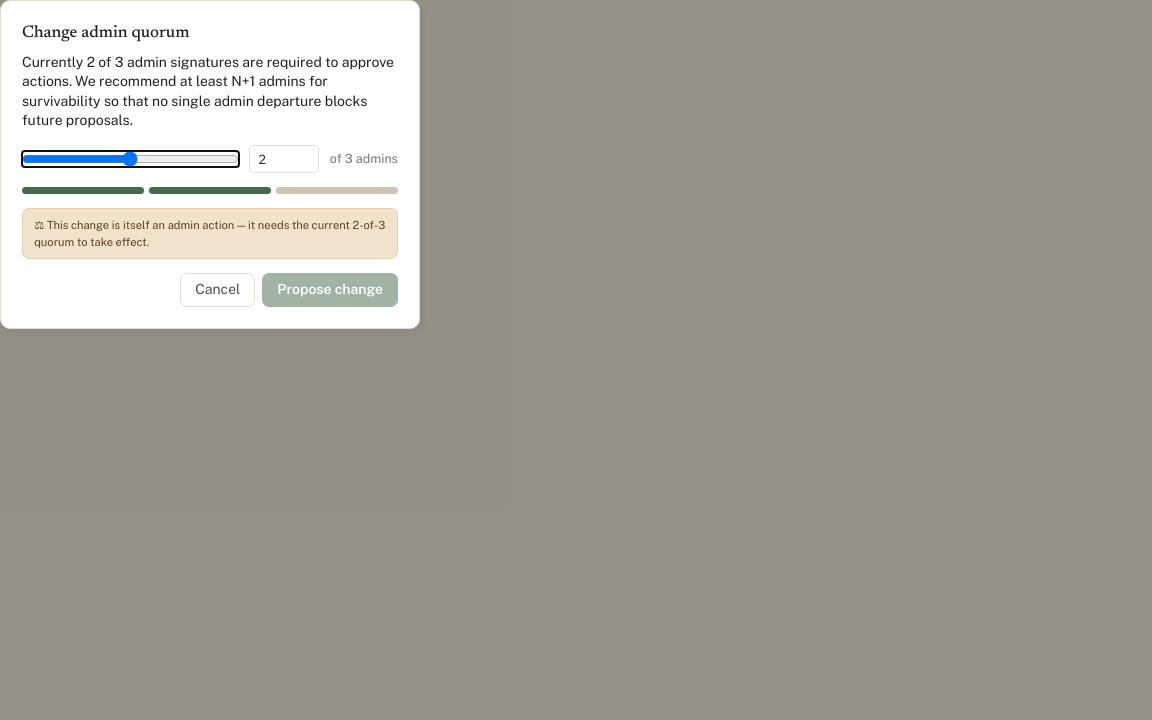
Scenario: ChangeQuorumDialog › propose_button_disabled_when_quorum_outside_valid_range
The width and height of the screenshot is (1152, 720).
Expected: the button "Propose change" is disabled, [262,273,398,307]
Replace the text in the number field named "Quorum number" with "0" at [284, 159], box [249,145,319,173]
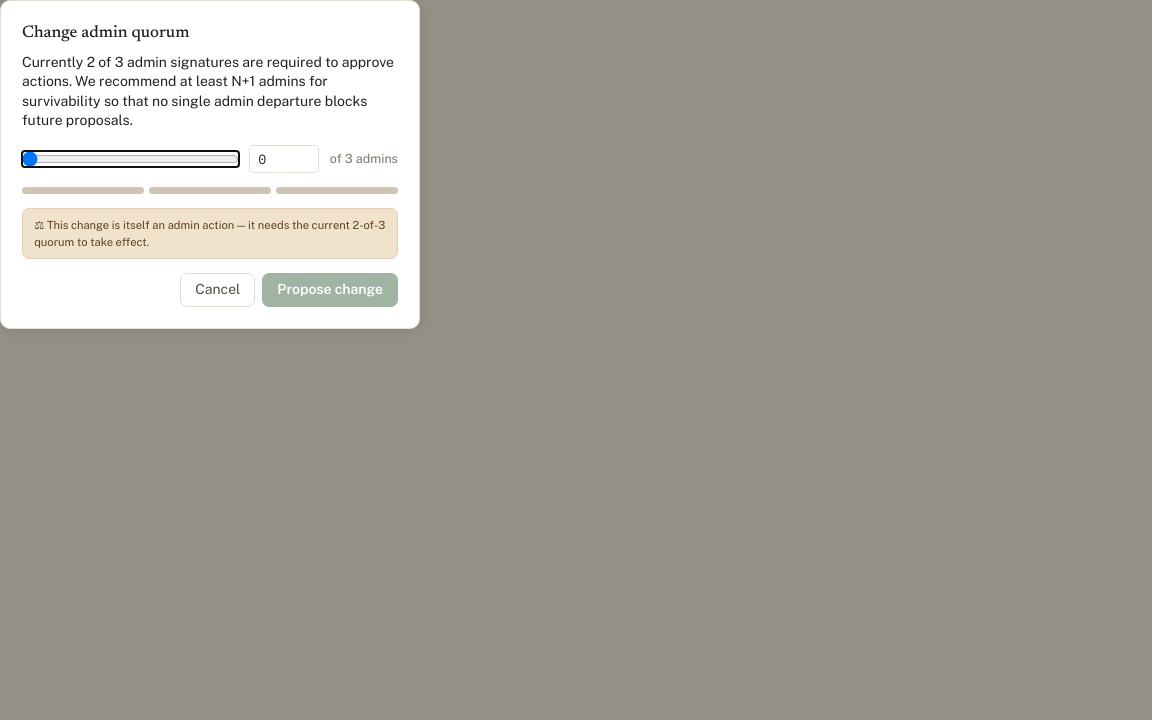
Expected: the button "Propose change" is disabled, [262,273,398,307]
Type a value above currentAdminCount.
Replace the text in the number field named "Quorum number" with "5" at [284, 159], box [249,145,319,173]
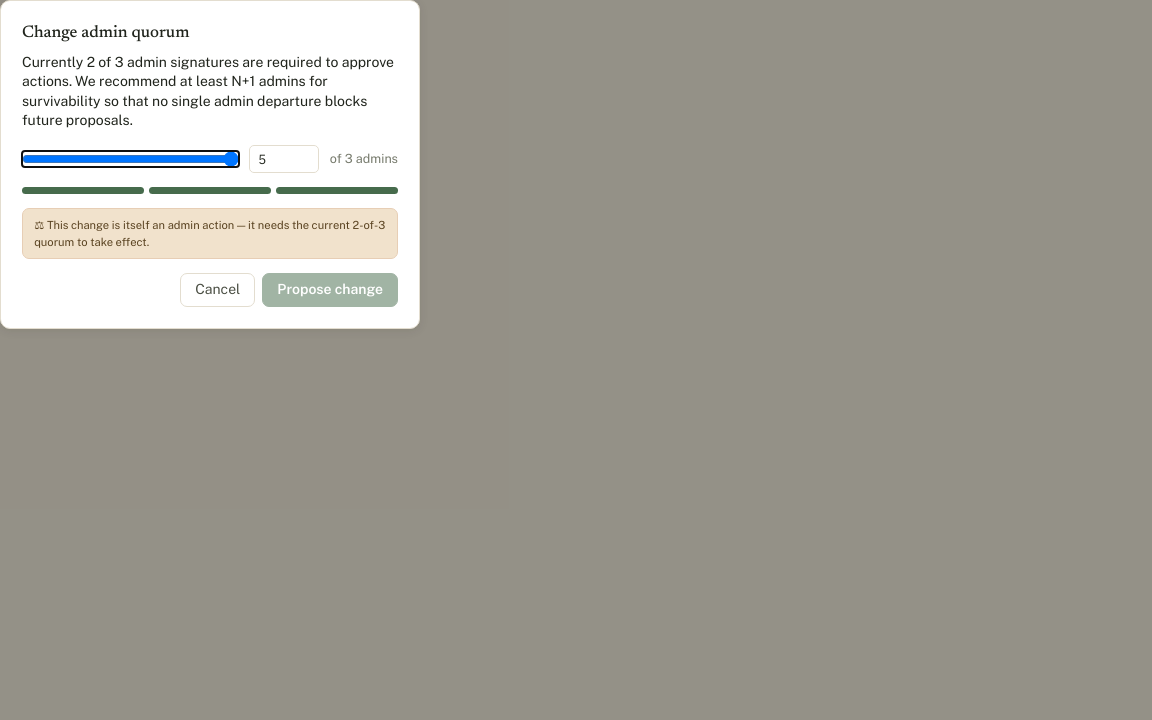
Expected: the button "Propose change" is disabled, [262,273,398,307]
Restore a valid, different value.
Replace the text in the number field named "Quorum number" with "3" at [284, 159], box [249,145,319,173]
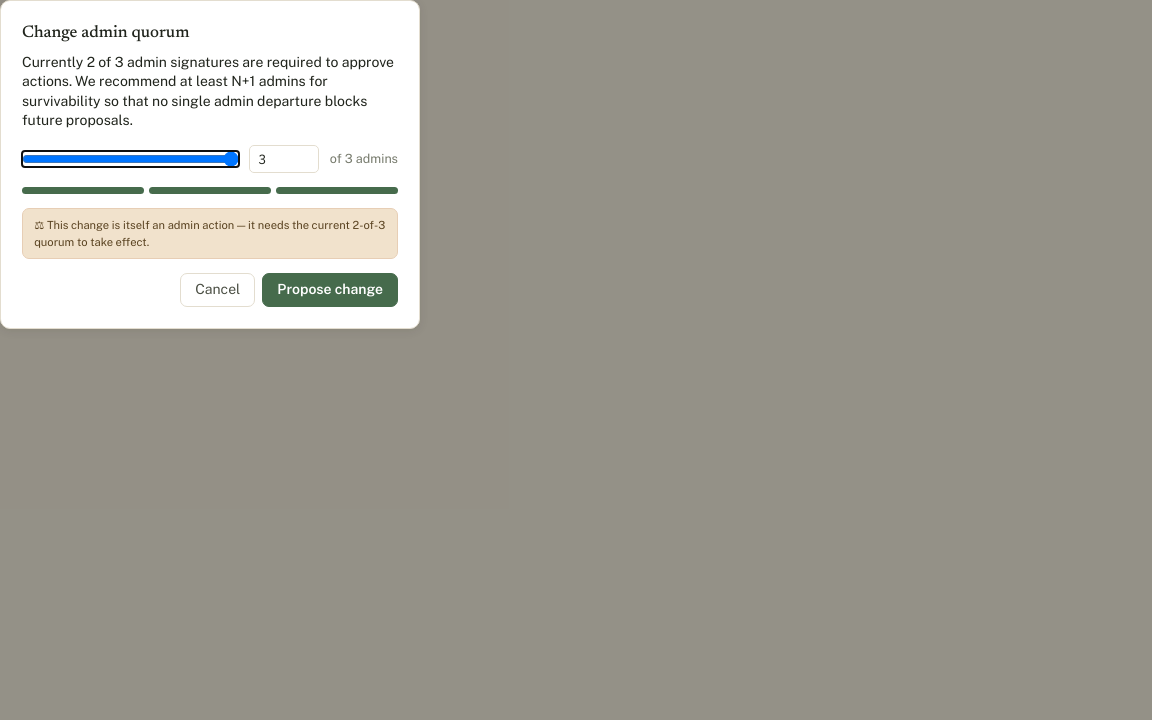
Now the button "Propose change" is enabled, box [262,273,398,307]
